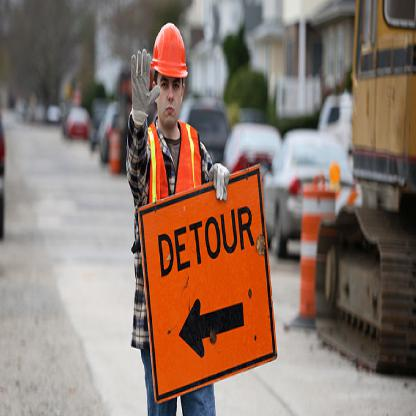helmet: (148, 19, 190, 78)
person: (126, 20, 221, 415)
vest: (148, 120, 200, 280)
